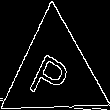P_NE: (29, 41, 79, 102)
